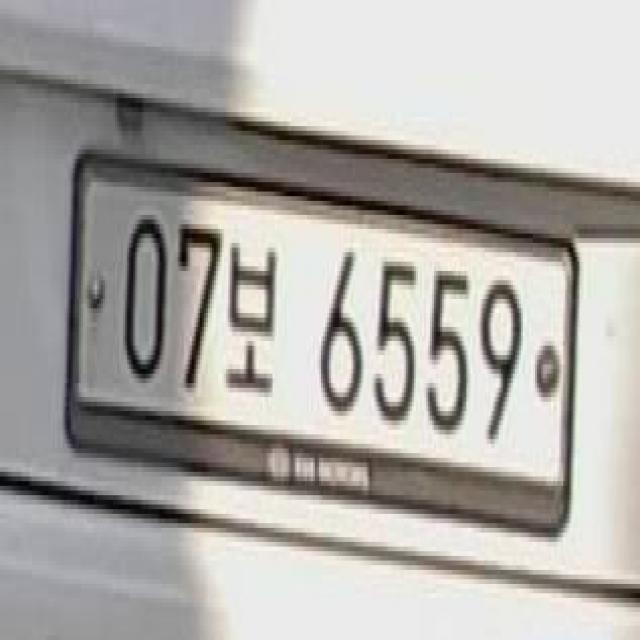illegal_plate: (71, 150, 583, 544)
